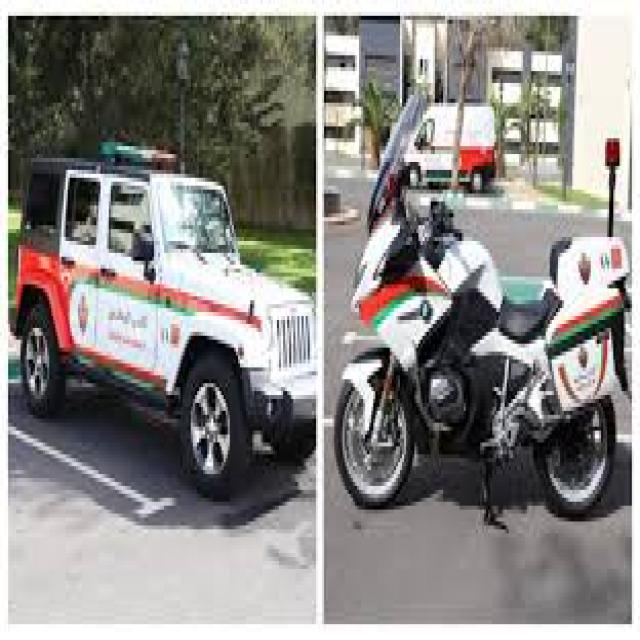police: (12, 132, 312, 504)
